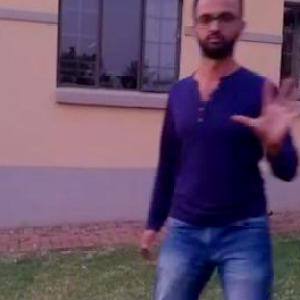follow_hand: (232, 74, 299, 160)
